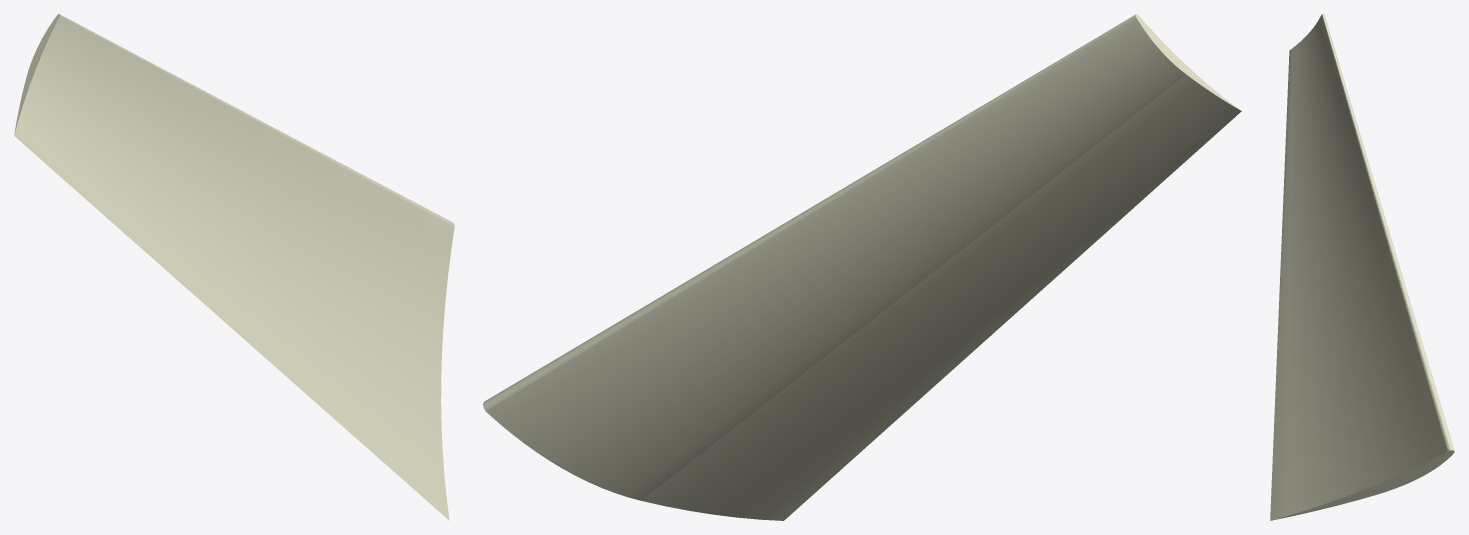
The model's file is original-31.obj.
3 views of the same model, side by side, from view 1: azimuth 30°, elevation 25°; view 2: azimuth 150°, elevation 25°; view 3: azimuth 270°, elevation 25° (orthographic). The views are drawn at different scales.
Visible parts, largest first — view 1: Fan_Blade31/Fan_Blade/mesh1/mesh1-geometry#mesh1-geometry; view 2: Fan_Blade31/Fan_Blade/mesh1/mesh1-geometry#mesh1-geometry; view 3: Fan_Blade31/Fan_Blade/mesh1/mesh1-geometry#mesh1-geometry.
Boxes of the visible parts, bbox=[...] form: Fan_Blade31/Fan_Blade/mesh1/mesh1-geometry#mesh1-geometry: bbox=[14, 14, 454, 520]; Fan_Blade31/Fan_Blade/mesh1/mesh1-geometry#mesh1-geometry: bbox=[483, 14, 1241, 520]; Fan_Blade31/Fan_Blade/mesh1/mesh1-geometry#mesh1-geometry: bbox=[1270, 14, 1454, 520].
Bounding box in the file's own units: 0.2612 × 0.253 × 0.1089.
